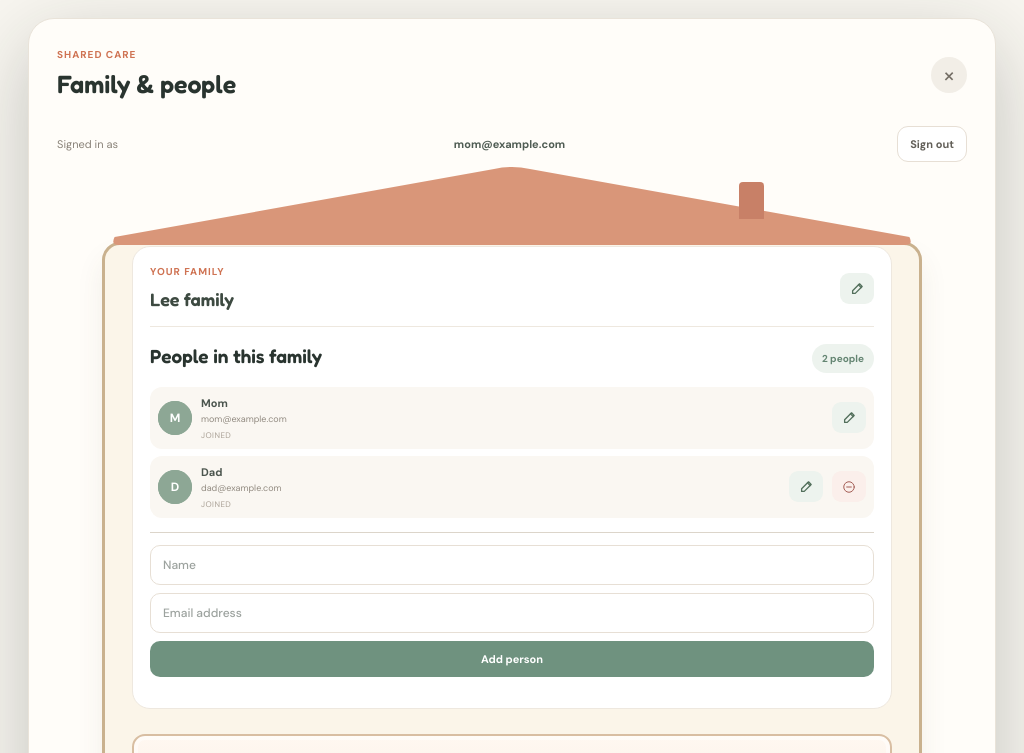
Test case: family release scope and workspace › keeps the family name read-only until edit is chosen and saves it explicitly
The width and height of the screenshot is (1024, 753).
expect the heading "People in this family" is shown: met, box [150,342,322,370]
expect the text "Lee family" is shown: met, box [150,286,234,313]
Click the button named "Edit family name": (857, 288) [840,273,874,304]
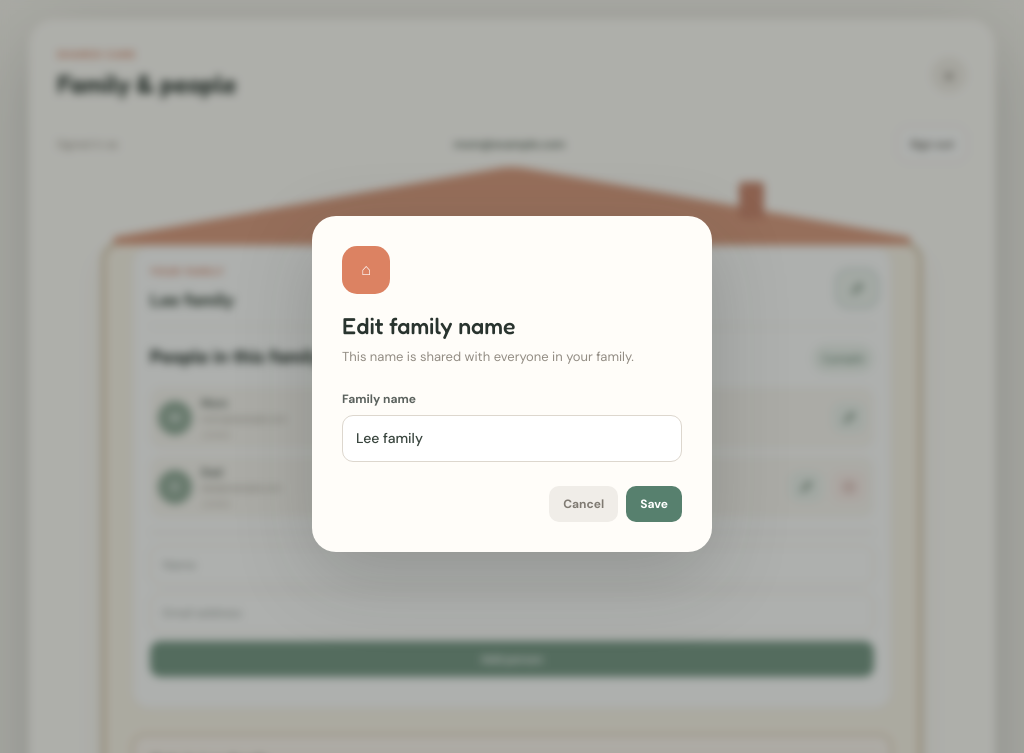
Replace the text in the field labelled "Family name" with "Lee household": (512, 439) [342,415,682,462]
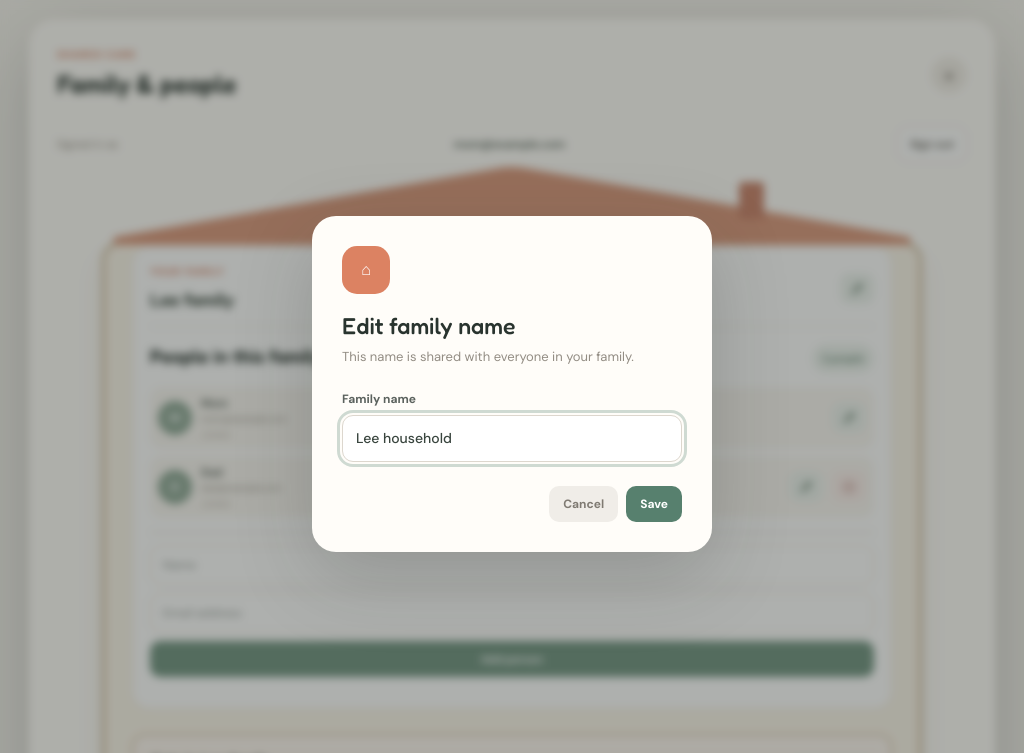
Click the button "Save": (654, 504) [626,486,682,522]
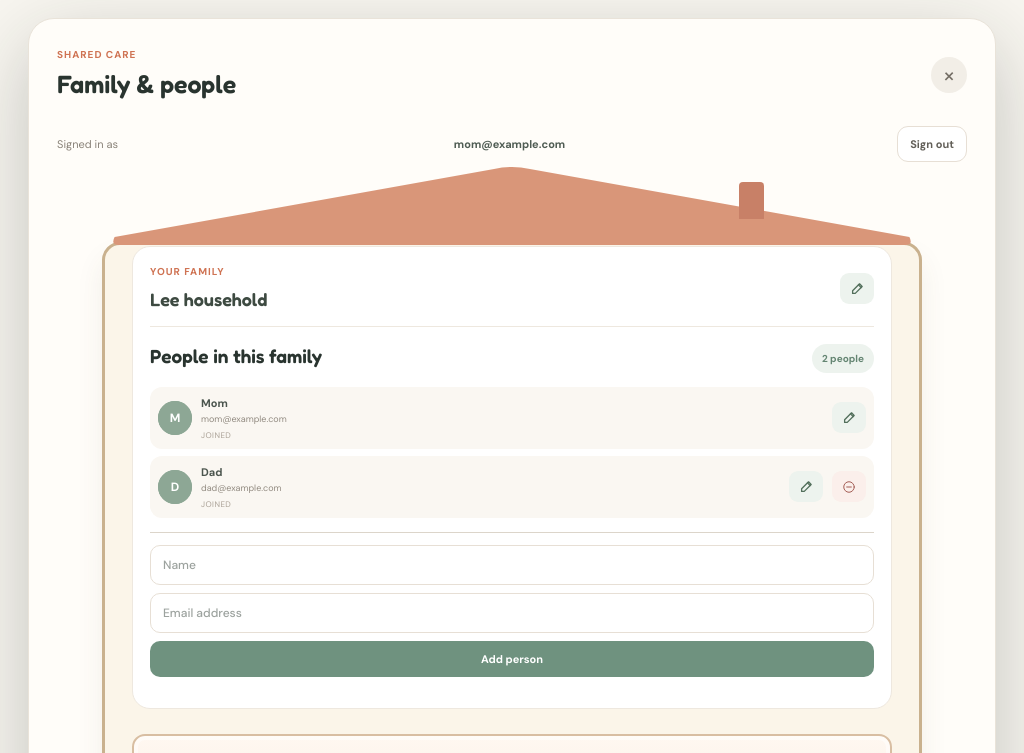
expect the field labelled "Family name" is not shown: met
expect the text "Lee household" is shown: met, box [150,286,267,313]
